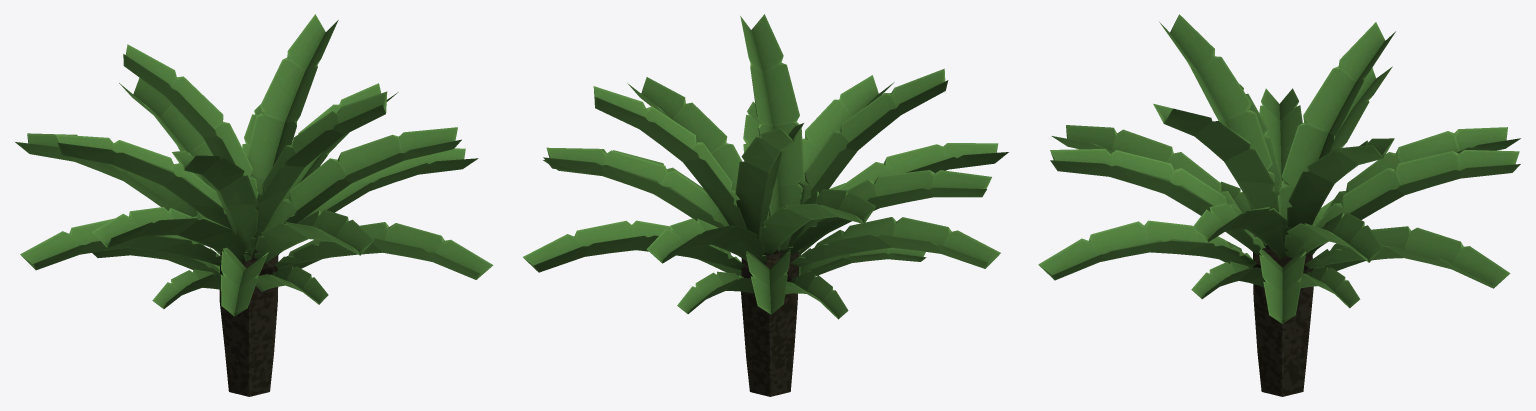
Rendered from olive-palm.glb.
The picture shows the model from 3 angles, left to right: view 1: azimuth 30°, elevation 25°; view 2: azimuth 150°, elevation 25°; view 3: azimuth 270°, elevation 25°; orthographic projection. The views are drawn at different scales.
Visible parts, largest first — view 1: OlivePalmTree_mesh; view 2: OlivePalmTree_mesh; view 3: OlivePalmTree_mesh.
Part boxes in pixels (x1,y1,x2,y2): OlivePalmTree_mesh: (15, 14, 493, 396); OlivePalmTree_mesh: (523, 14, 1008, 396); OlivePalmTree_mesh: (1038, 14, 1520, 396).
Size of the model in its own units: 7.35 by 5.01 by 6.76.
1 material, 1 textured.
